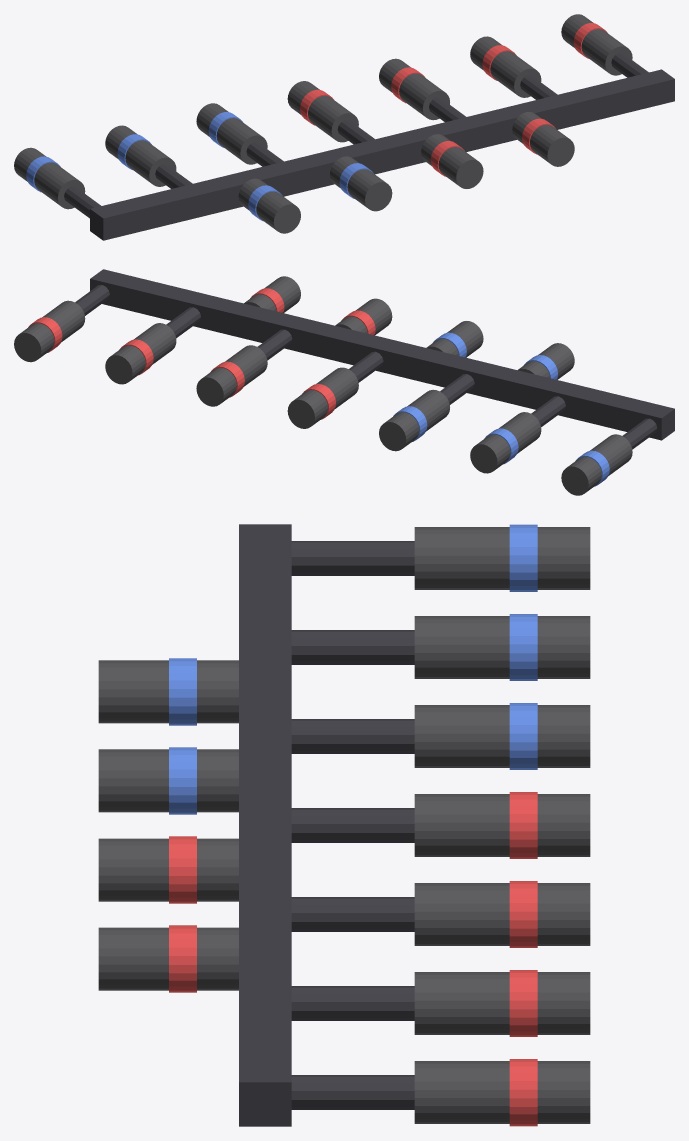
3 views of the same model, one above another, from view 1: azimuth 30°, elevation 25°; view 2: azimuth 150°, elevation 25°; view 3: azimuth 270°, elevation 25° (orthographic). The views are drawn at different scales.
Visible parts, largest first — view 1: y4p_arms, y4n_arms, y2p_arms, y2n_arms, y4p_inc_body, y4n_inc_body, y4n_ind_body, y2n_inb_body, y2p_inb_body, y4p_ind_body, y2p_ina_body, y2n_out_body (+14 smaller); view 2: y4n_arms, y4p_arms, y2p_arms, y2n_arms, y2p_inb_body, y4p_inc_body, y4n_ind_body, y4p_ind_body, y2n_inb_body, y4n_inc_body, y2p_ina_body, y2p_out_body (+10 smaller); view 3: y4n_arms, y4p_arms, y2p_arms, y2p_ina_body, y2p_inb_body, y2n_inb_body, y4p_inc_body, y4p_ind_body, y4n_inc_body, y4n_ind_body, y2n_arms, y2p_out_body (+14 smaller).
Boxes of the visible parts, <box> form: y4p_arms: <box>366,53,674,173</box>; y4n_arms: <box>64,142,376,240</box>; y2p_arms: <box>337,97,491,173</box>; y2n_arms: <box>246,142,376,195</box>; y4p_inc_body: <box>470,36,541,97</box>; y4n_inc_body: <box>105,125,176,186</box>; y4n_ind_body: <box>14,147,85,209</box>; y2n_inb_body: <box>196,103,267,164</box>; y2p_inb_body: <box>379,58,449,120</box>; y4p_ind_body: <box>561,14,632,75</box>; y2p_ina_body: <box>287,81,358,142</box>; y2n_out_body: <box>330,156,392,211</box>; y4n_arms: <box>363,341,674,449</box>; y4p_arms: <box>75,269,400,345</box>; y2p_arms: <box>257,314,400,382</box>; y2n_arms: <box>363,341,487,404</box>; y2p_inb_body: <box>196,345,267,406</box>; y4p_inc_body: <box>105,323,176,384</box>; y4n_ind_body: <box>561,434,632,495</box>; y4p_ind_body: <box>14,300,85,362</box>; y2n_inb_body: <box>379,389,449,451</box>; y4n_inc_body: <box>470,412,541,473</box>; y2p_ina_body: <box>287,367,358,428</box>; y2p_out_body: <box>335,298,392,335</box>; y4n_arms: <box>239,524,414,791</box>; y4p_arms: <box>239,791,414,1126</box>; y2p_arms: <box>239,791,414,931</box>; y2p_ina_body: <box>414,794,590,856</box>; y2p_inb_body: <box>414,883,590,945</box>; y2n_inb_body: <box>414,705,590,767</box>; y4p_inc_body: <box>414,972,590,1034</box>; y4p_ind_body: <box>414,1061,590,1123</box>; y4n_inc_body: <box>414,616,590,678</box>; y4n_ind_body: <box>414,527,590,589</box>; y2n_arms: <box>239,702,414,791</box>; y2p_out_body: <box>98,838,238,901</box>.
Bounding box in the file's own units: 0.3792 × 0.0192 × 0.14.
